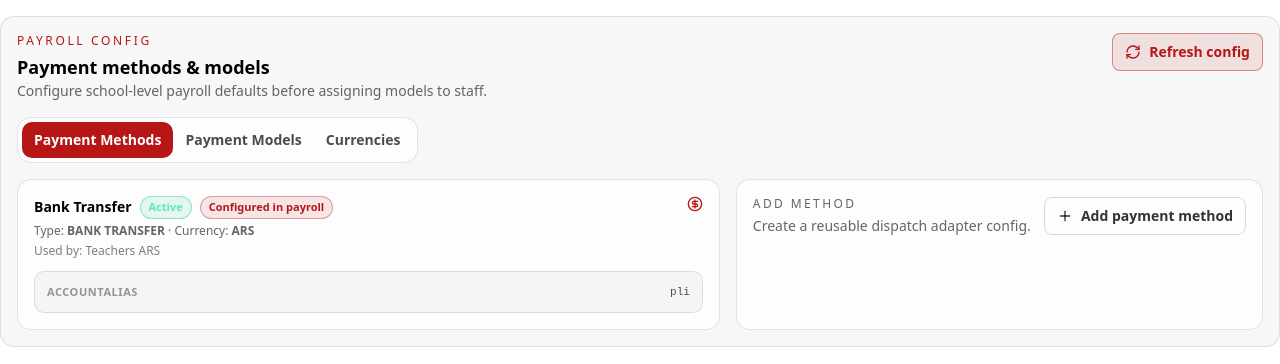
it: StaffPaymentMethodConfigPanel › shows configured methods and resolves default method names from the methods payload
The width and height of the screenshot is (1280, 364).
What coordinates should you click on to do the following:
click the button "Payment Models"
I would click on:
 (244, 140)
Its box is left=173, top=122, right=314, bottom=158.
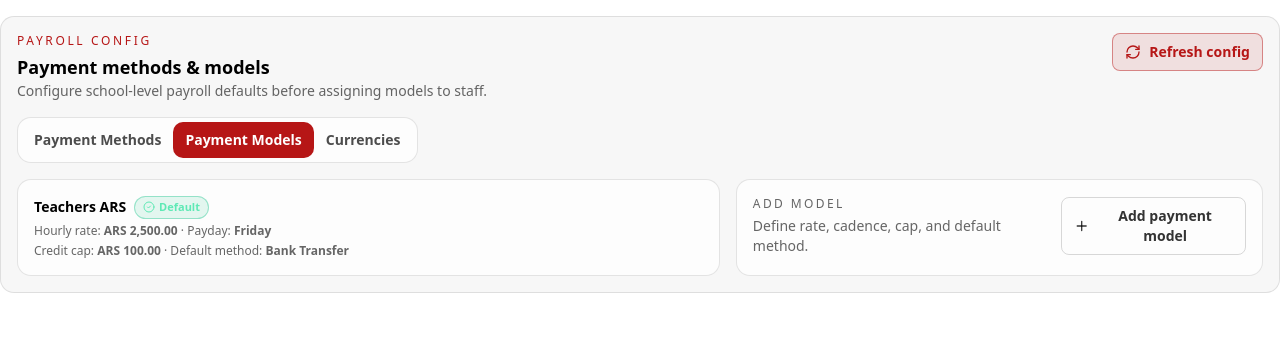
Expected: the text "Default method: Bank Transfer" is shown, left=34, top=242, right=349, bottom=258
